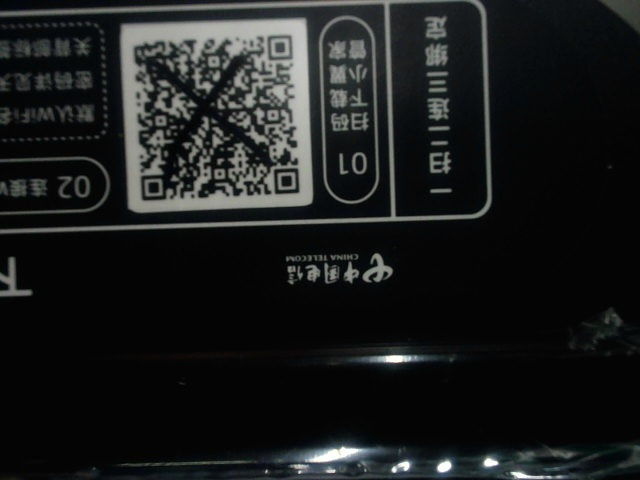AB_ChinaTelecom: (278, 250, 398, 287)
